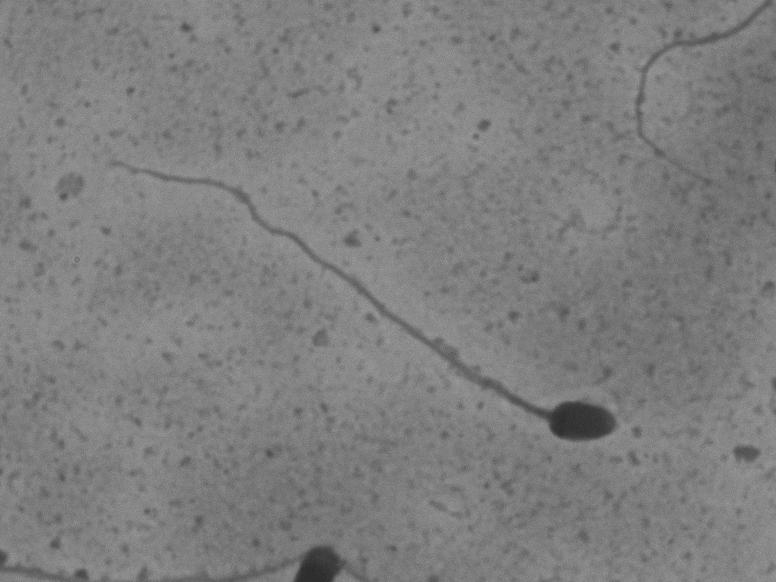Abnormal: (104, 120, 637, 470)
